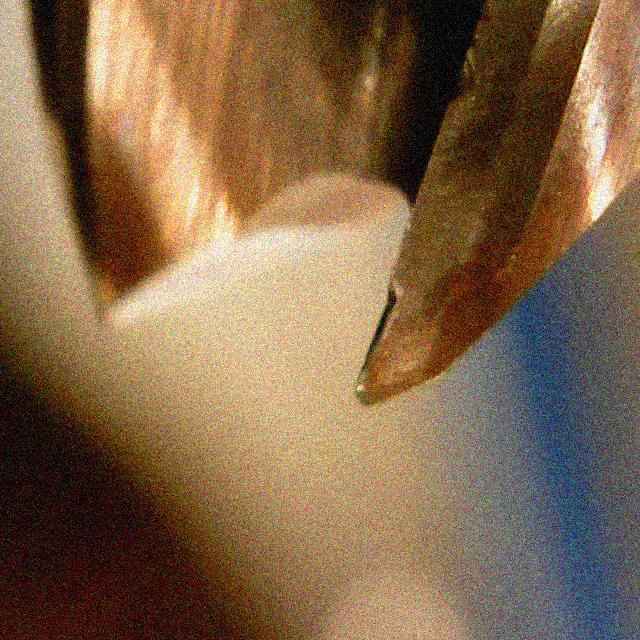Tool-wear-class-1: (326, 211, 484, 426)
